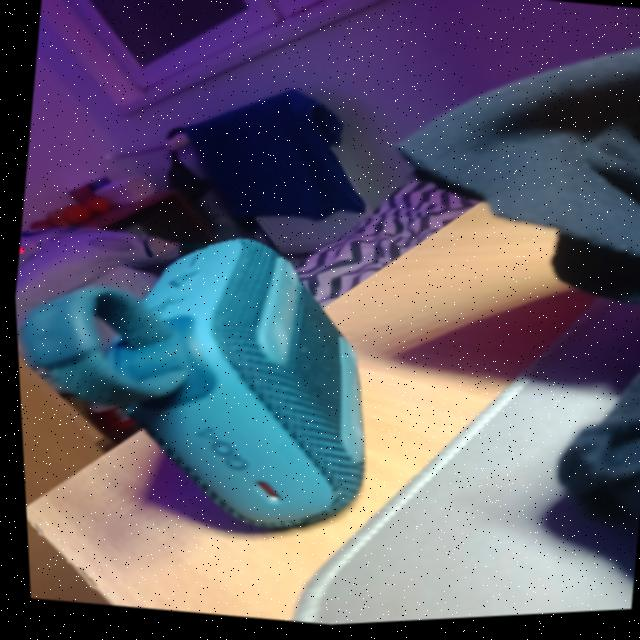column JBL: (17, 242, 359, 532)
tie fighter: (170, 295, 177, 303)
